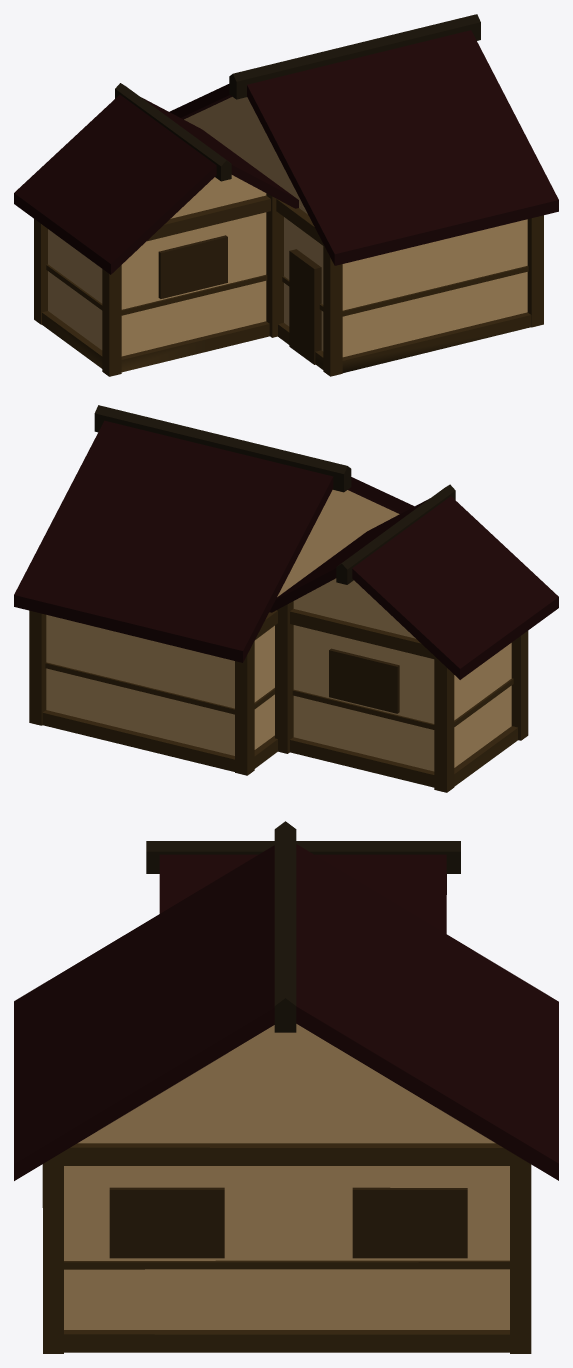
File: FarmHouse(2).fbx
3 views of the same model, one above another, from view 1: azimuth 30°, elevation 25°; view 2: azimuth 150°, elevation 25°; view 3: azimuth 270°, elevation 25° (orthographic). The views are drawn at different scales.
Parts seen in each view (by area): view 1: FarmHouse(2); view 2: FarmHouse(2); view 3: FarmHouse(2).
Part boxes in pixels (x1,y1,x2,y2): FarmHouse(2): (14, 14, 558, 376); FarmHouse(2): (14, 405, 558, 792); FarmHouse(2): (14, 821, 558, 1353).
Bounding box in the file's own units: 8.92 × 5.16 × 6.94.
